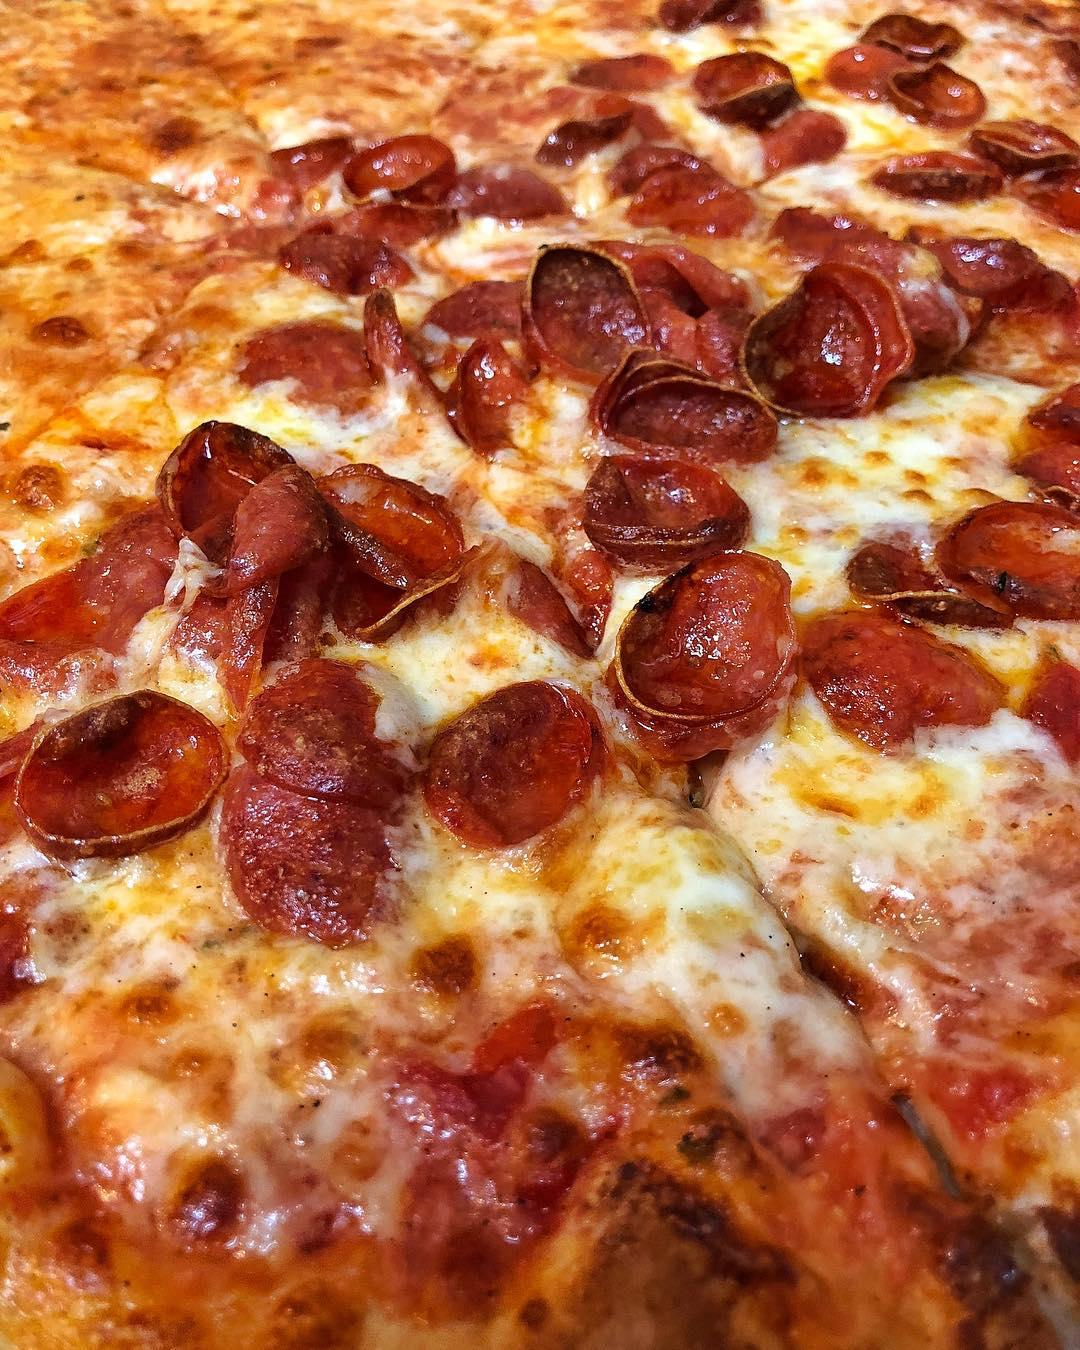Pepperoni: (0, 412, 586, 690), (410, 244, 762, 440), (726, 204, 980, 440), (468, 80, 776, 258), (198, 754, 420, 966), (596, 548, 810, 766), (250, 108, 476, 314), (786, 592, 1034, 756), (14, 678, 233, 862), (404, 666, 608, 856), (224, 638, 410, 830), (832, 480, 1080, 622), (574, 432, 770, 577), (676, 36, 862, 186), (208, 296, 412, 424), (806, 4, 989, 138), (960, 252, 1080, 408), (962, 110, 1080, 246), (986, 350, 1080, 520), (1016, 620, 1080, 796), (862, 140, 1006, 214), (928, 210, 1043, 300)
Pizza: (0, 0, 1080, 1350)
